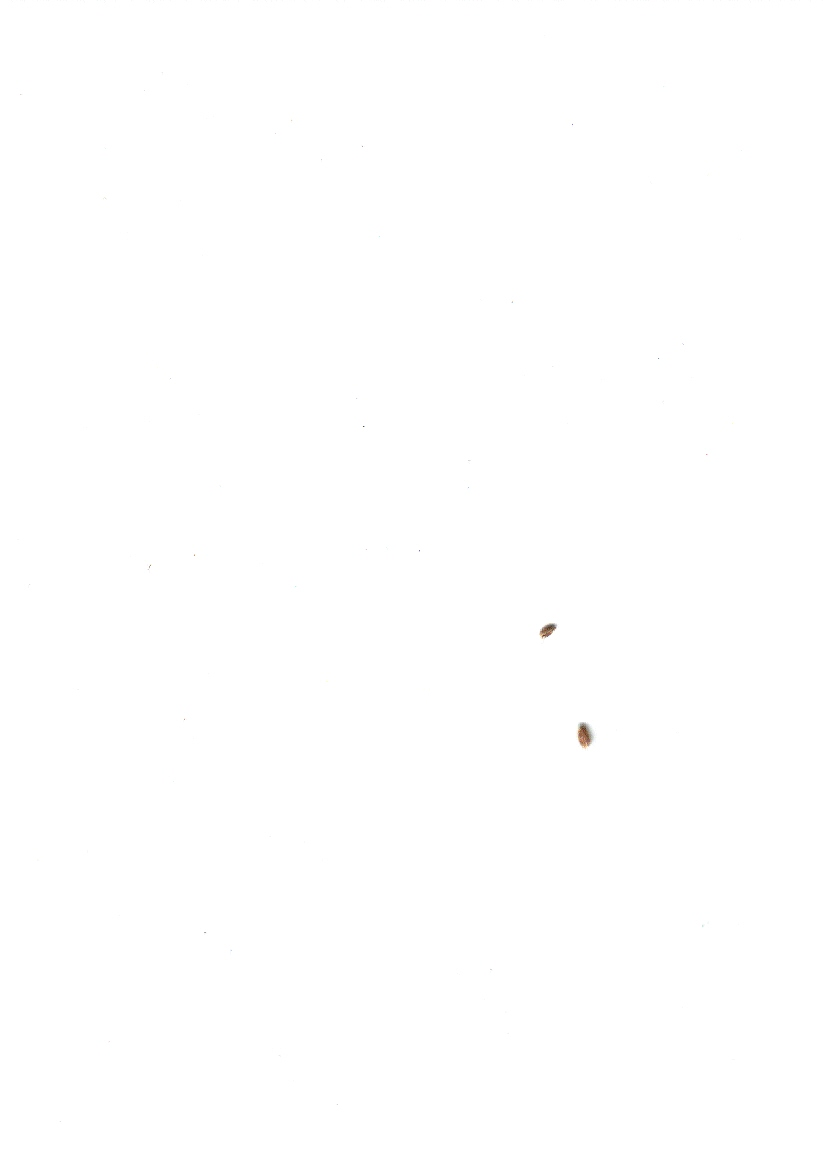grains: (562, 706, 607, 758), (523, 615, 575, 647)
